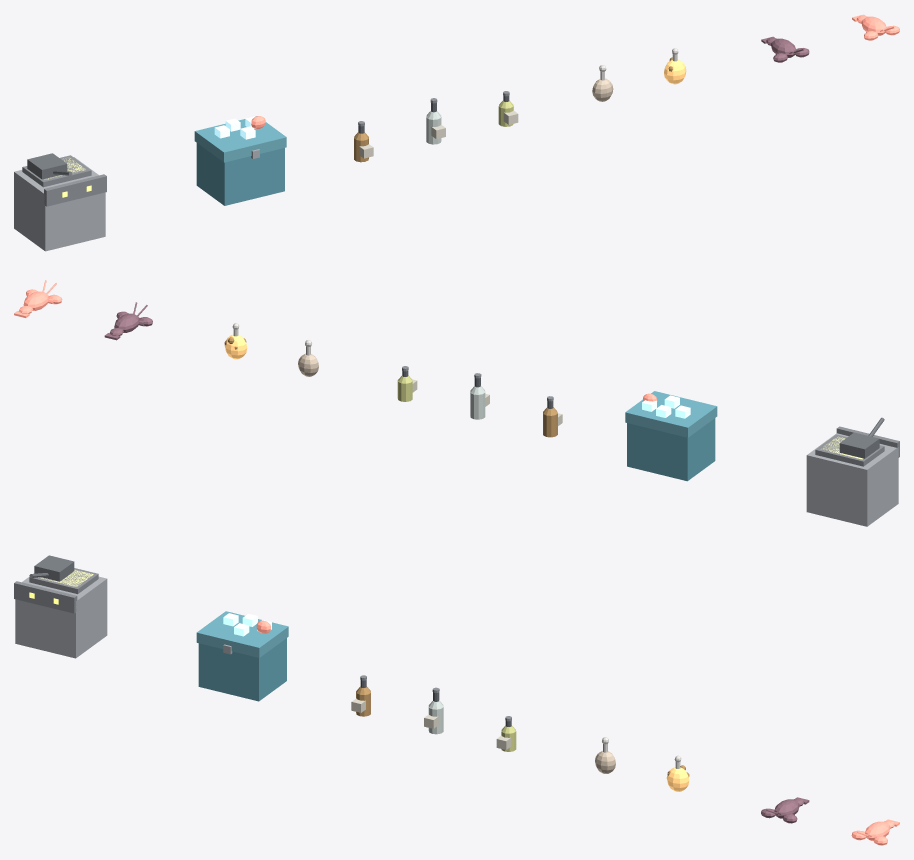
Rendered from props_chez.glb.
The picture shows the model from 3 angles, top to bottom: view 1: azimuth 30°, elevation 25°; view 2: azimuth 150°, elevation 25°; view 3: azimuth 330°, elevation 25°; orthographic projection.
Parts seen in each view (by area): view 1: fr_body, ib_body, ib_lid, fr_panel, fr_vat, fr_basket; view 2: fr_body, ib_body, ib_lid, fr_vat, fr_basket; view 3: fr_body, ib_body, ib_lid, fr_panel, fr_vat, fr_basket.
Part boxes in pixels (<box>): fr_body: <box>14,157,105,251</box>; ib_body: <box>196,143,284,205</box>; ib_lid: <box>194,116,286,162</box>; fr_panel: <box>44,174,106,206</box>; fr_vat: <box>22,155,91,187</box>; fr_basket: <box>27,153,67,179</box>; fr_body: <box>806,433,898,526</box>; ib_body: <box>627,418,715,481</box>; ib_lid: <box>625,391,717,437</box>; fr_vat: <box>815,434,884,466</box>; fr_basket: <box>839,432,879,458</box>; fr_body: <box>15,573,107,658</box>; ib_body: <box>198,638,286,701</box>; ib_lid: <box>196,611,288,657</box>; fr_panel: <box>14,581,77,613</box>; fr_vat: <box>29,568,98,594</box>; fr_basket: <box>34,555,74,581</box>.
Size of the model in its own units: 14.3 by 1.25 by 1.07.
